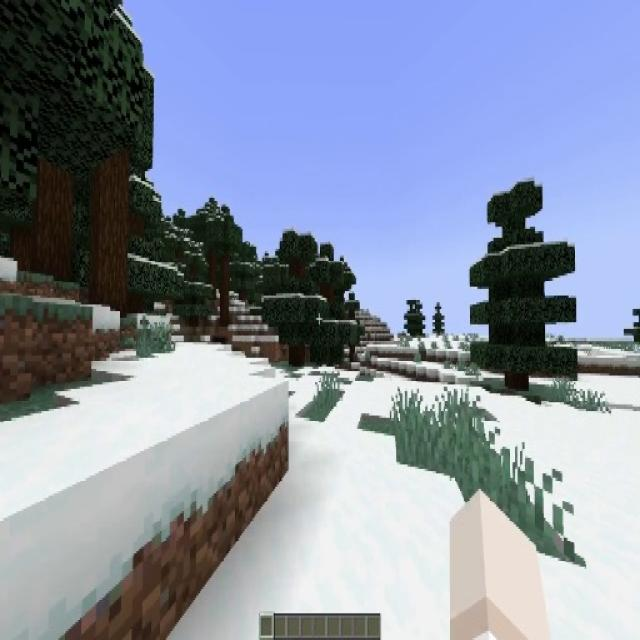spruce: (51, 0, 167, 323), (469, 184, 579, 386), (265, 236, 326, 364), (210, 208, 241, 330), (406, 298, 426, 340), (431, 303, 445, 337)
spruce_log: (89, 144, 129, 316), (33, 168, 74, 280), (220, 256, 230, 326), (288, 346, 305, 364), (137, 297, 154, 312)
